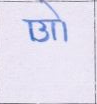o_matra: (50, 6, 70, 40)
